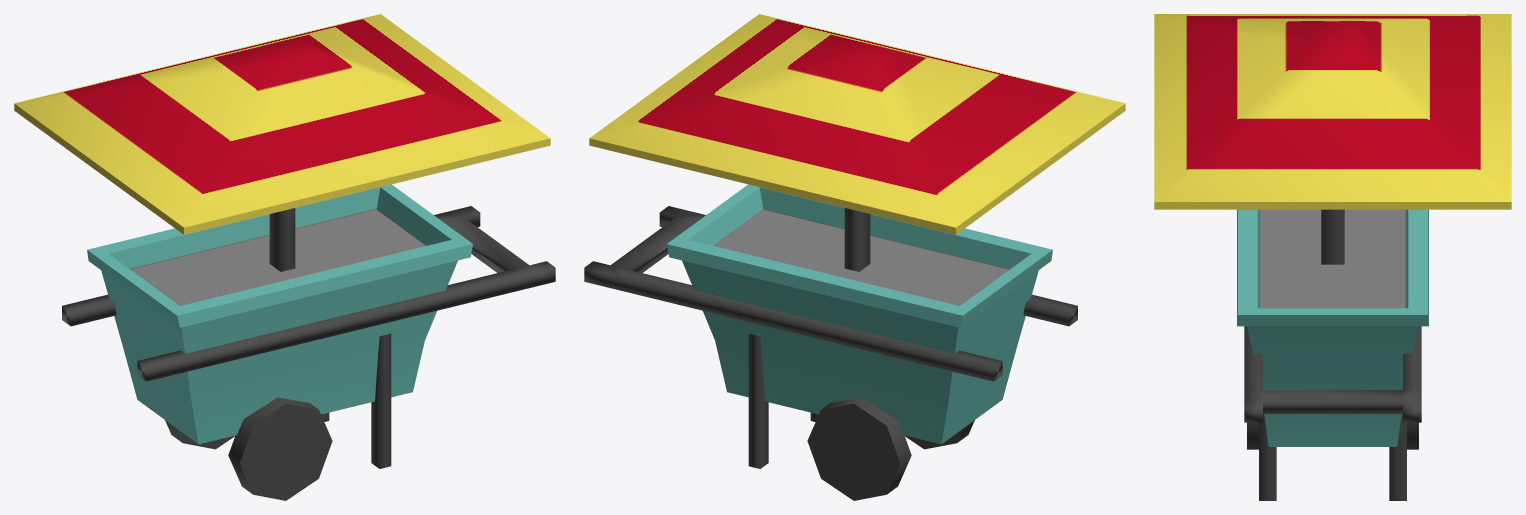
Rendered from Env_TeaStand.fbx.
The picture shows the model from 3 angles, left to right: view 1: azimuth 30°, elevation 25°; view 2: azimuth 150°, elevation 25°; view 3: azimuth 270°, elevation 25°; orthographic projection. The views are drawn at different scales.
Visible parts, largest first — view 1: Env_teaStand; view 2: Env_teaStand; view 3: Env_teaStand.
Part boxes in pixels (x1,y1,x2,y2): Env_teaStand: [14, 14, 555, 500]; Env_teaStand: [584, 14, 1125, 500]; Env_teaStand: [1154, 14, 1511, 500].
Size of the model in its own units: 167 by 158 by 118.
